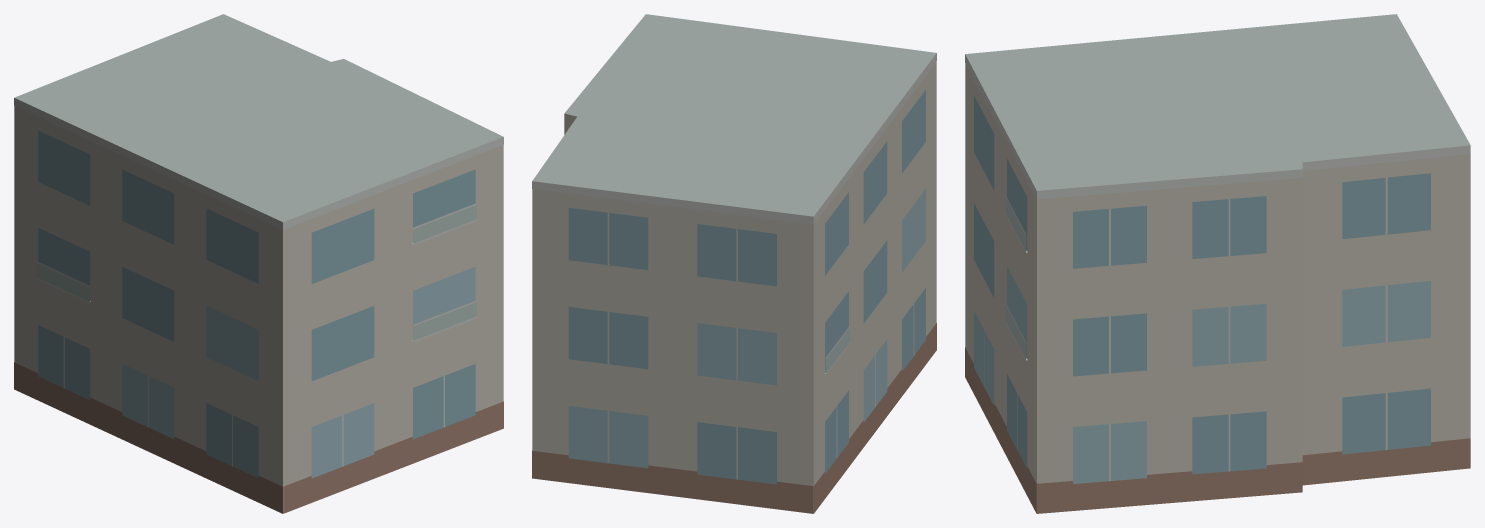
Rendered from survey-upis-33022606.glb.
3 renders of one model, left to right at view 1: azimuth 30°, elevation 25°; view 2: azimuth 150°, elevation 25°; view 3: azimuth 270°, elevation 25°, orthographic. The views are drawn at different scales.
Parts seen in each view (by area): view 1: survey-upis-33022606.tmp; view 2: survey-upis-33022606.tmp; view 3: survey-upis-33022606.tmp.
Boxes of the visible parts, <box> form: survey-upis-33022606.tmp: <box>14,14,503,513</box>; survey-upis-33022606.tmp: <box>532,14,936,513</box>; survey-upis-33022606.tmp: <box>965,14,1470,513</box>.
Bounding box in the file's own units: 10.75 × 9.15 × 12.99.
